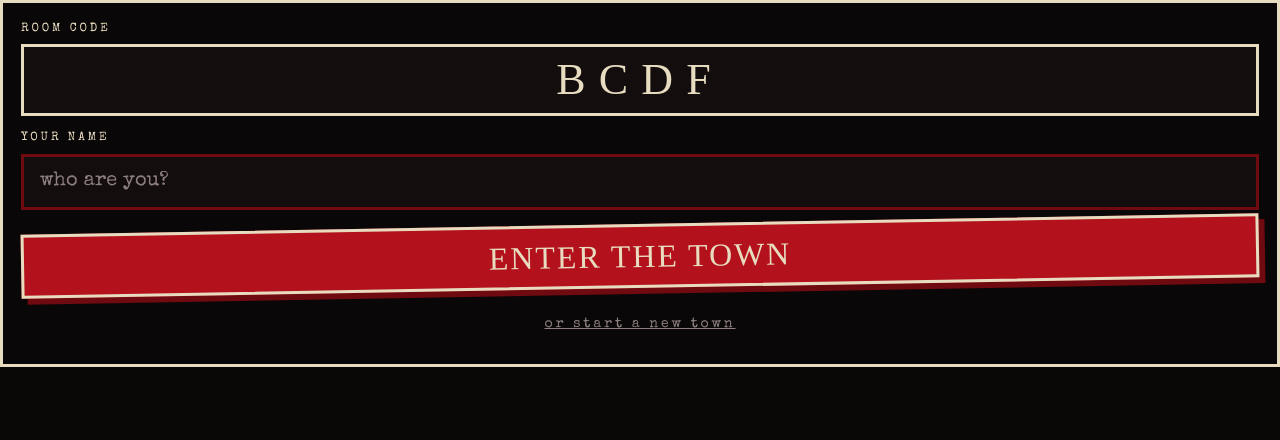
Test: JoinForm › shows a generic message for unexpected errors without leaking details
The image size is (1280, 440).
Type "Ada" into the field labelled "Your name" at (640, 182), box [21,154,1259,210]
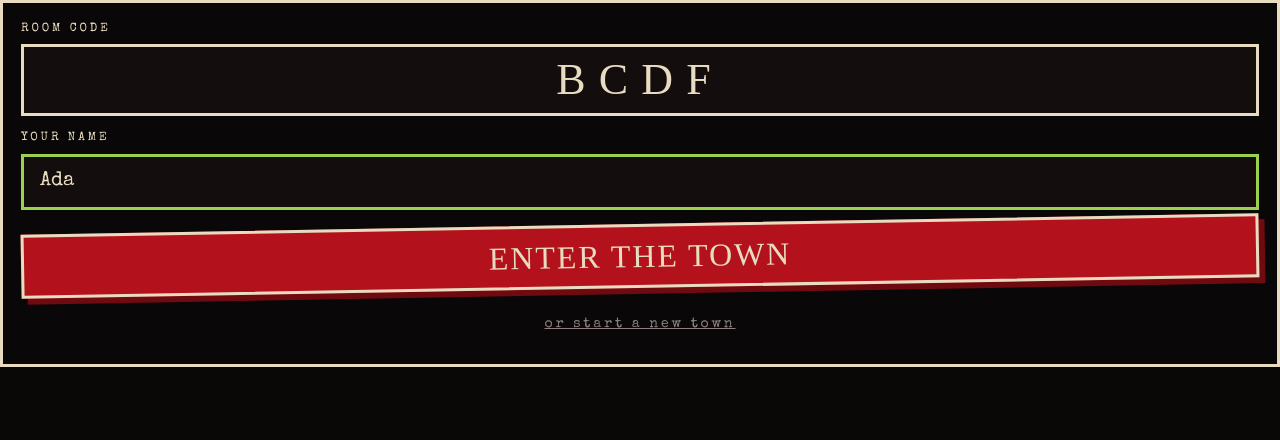
Click the button "ENTER THE TOWN" at (640, 256), box [20,213,1259,299]
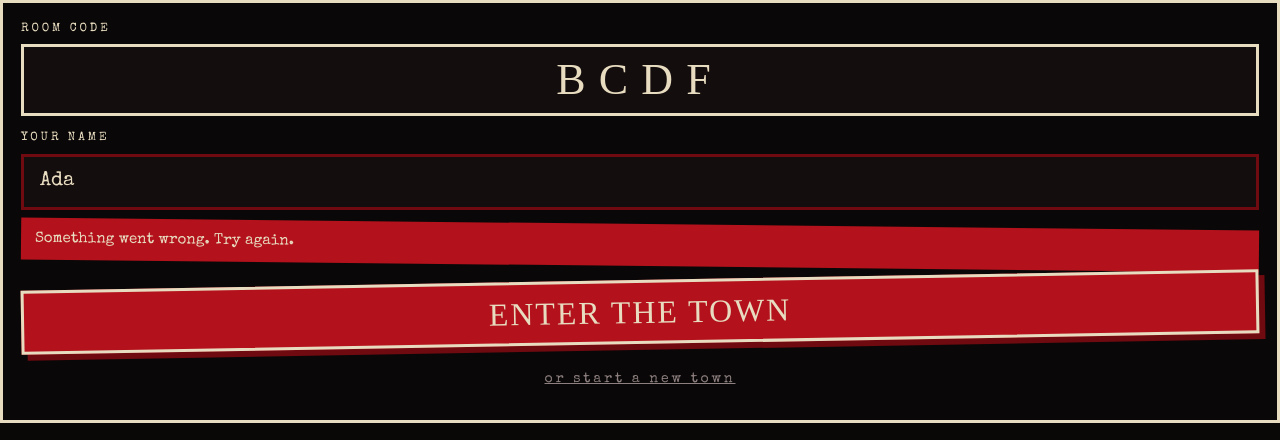
Check: the message does not show "secret", box [21,217,1259,272]
Check: the message reads "Something went wrong. Try again.", box [35,230,294,248]
